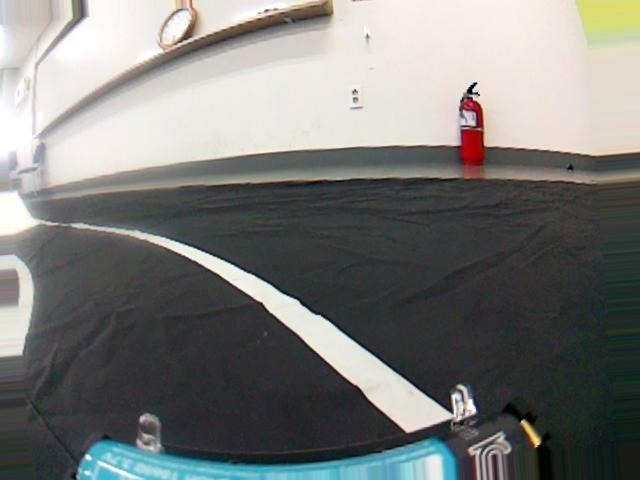left: (0, 211, 639, 474)
